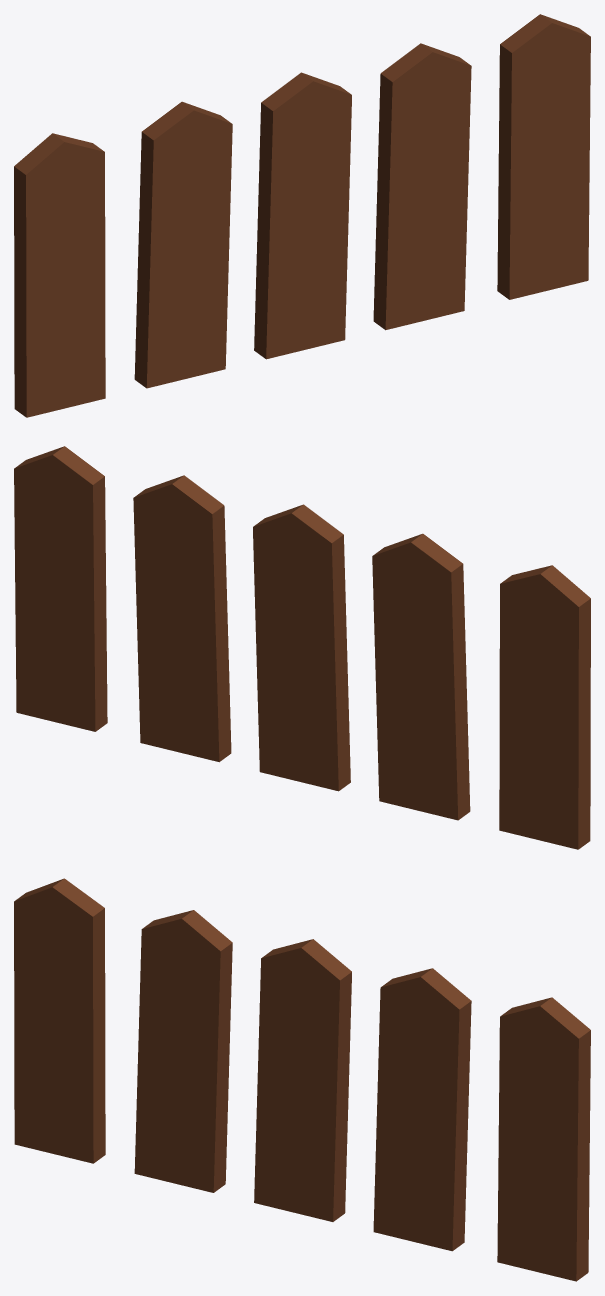
The model's file is fence-3.fbx.
3 renders of one model, top to bottom at view 1: azimuth 30°, elevation 25°; view 2: azimuth 150°, elevation 25°; view 3: azimuth 330°, elevation 25°, orthographic.
Visible parts, largest first — view 1: fence-3; view 2: fence-3; view 3: fence-3.
Part boxes in pixels (x1=…): fence-3: x1=14, y1=14, x2=590, y2=417; fence-3: x1=14, y1=446, x2=590, y2=849; fence-3: x1=14, y1=878, x2=590, y2=1281.
Bounding box in the file's own units: 189 × 85.34 × 7.
